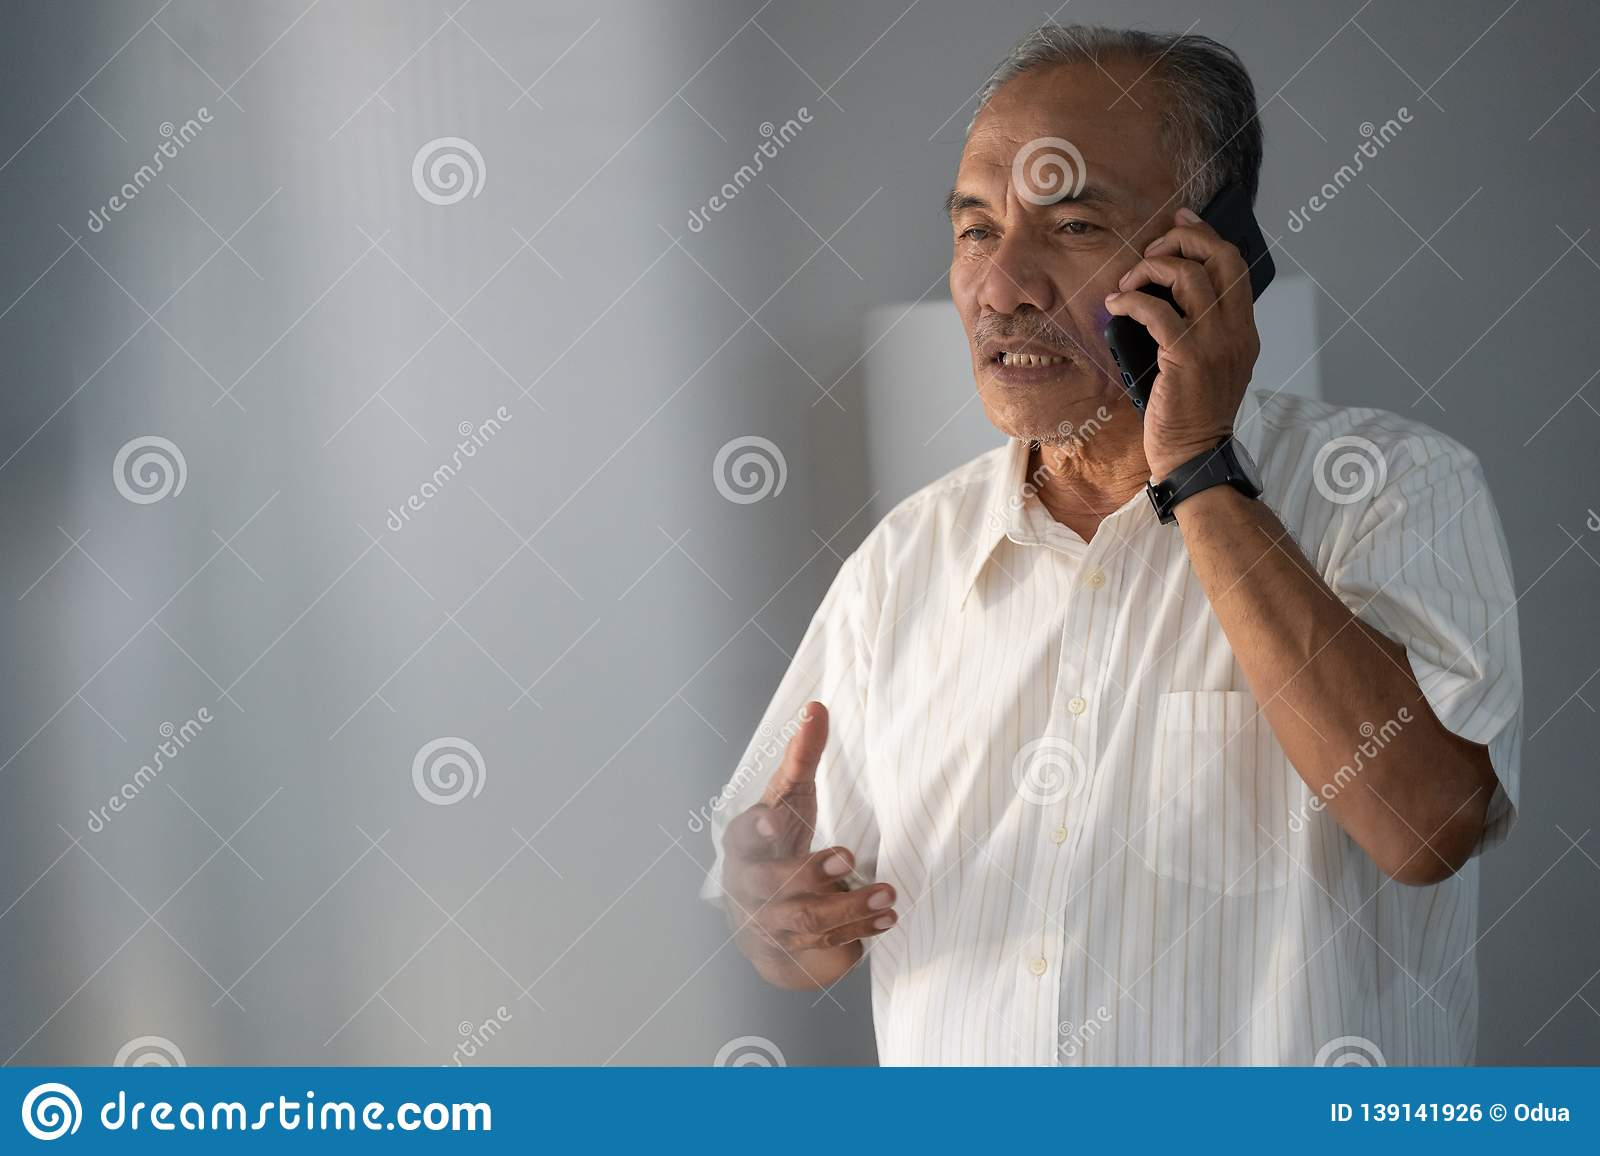phone: (1103, 175, 1275, 428)
talk: (947, 170, 1280, 522)
